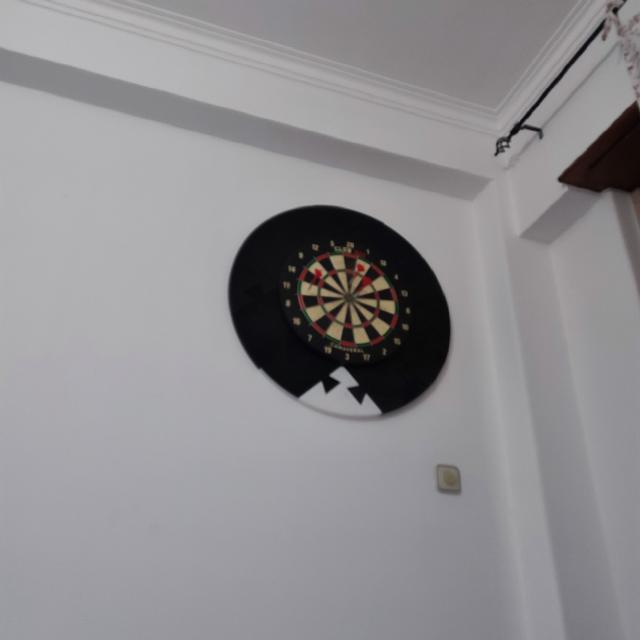dart: (353, 276, 373, 298), (353, 276, 372, 298), (307, 268, 322, 292), (348, 264, 364, 285), (349, 264, 364, 284), (308, 269, 321, 291)
